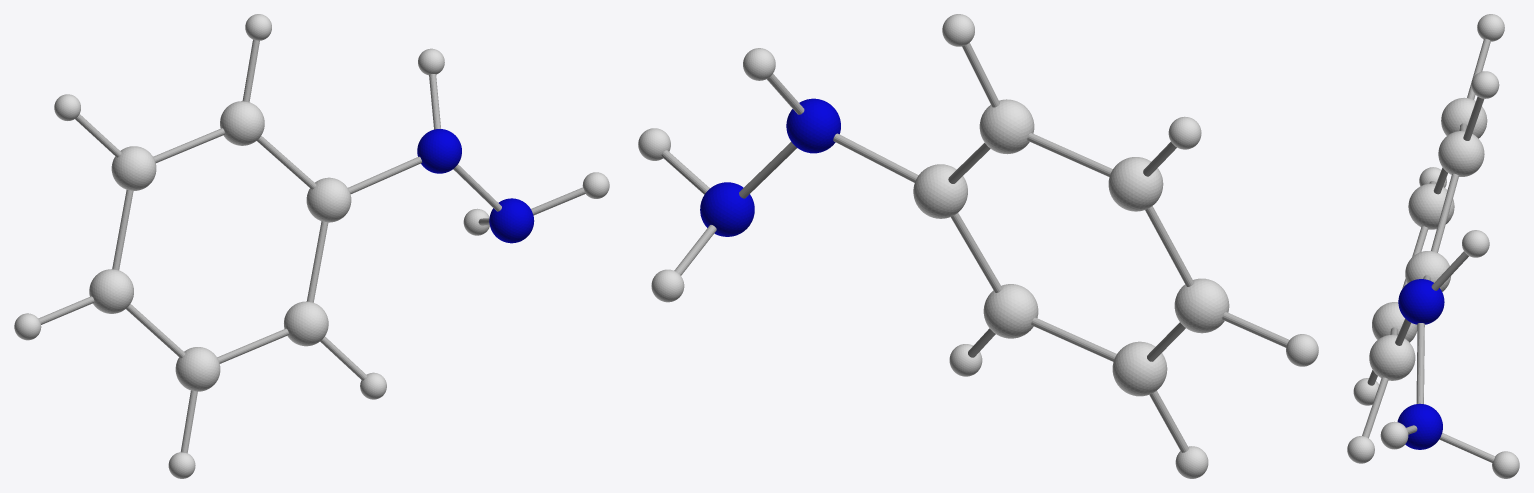
File: NNC1_CC_CC_C1.glb
3 renders of one model, left to right at view 1: azimuth 30°, elevation 25°; view 2: azimuth 150°, elevation 25°; view 3: azimuth 270°, elevation 25°, orthographic. The views are drawn at different scales.
Parts seen in each view (by area): view 1: world; view 2: world; view 3: world.
Boxes of the visible parts, x1,y1,x2,y2 form: world: (14, 14, 609, 478); world: (638, 14, 1318, 478); world: (1347, 14, 1519, 478).
Size of the model in its own units: 7.37 by 4.77 by 1.87.
